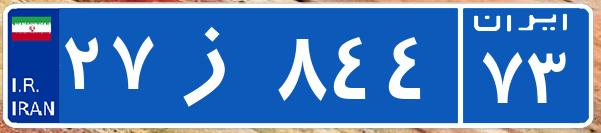2: (57, 26, 110, 107)
3: (525, 38, 570, 115)
4: (385, 28, 445, 110), (330, 28, 385, 110)
7: (475, 38, 525, 113), (110, 28, 158, 105)
8: (273, 28, 330, 110)
ز: (158, 15, 273, 115)
